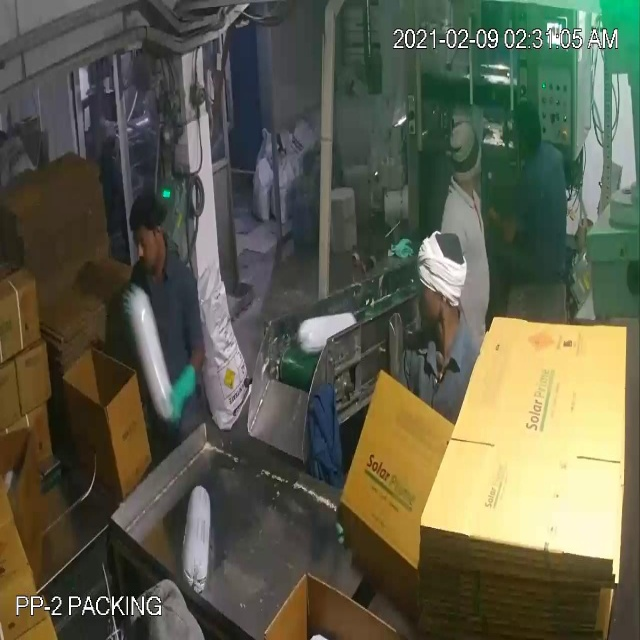Guantes: (148, 347, 205, 442)
